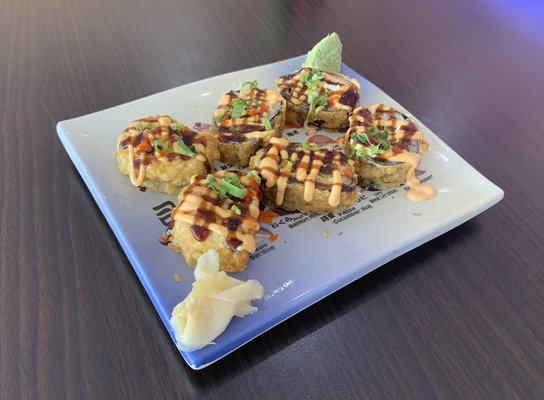soup: (168, 168, 264, 272)
